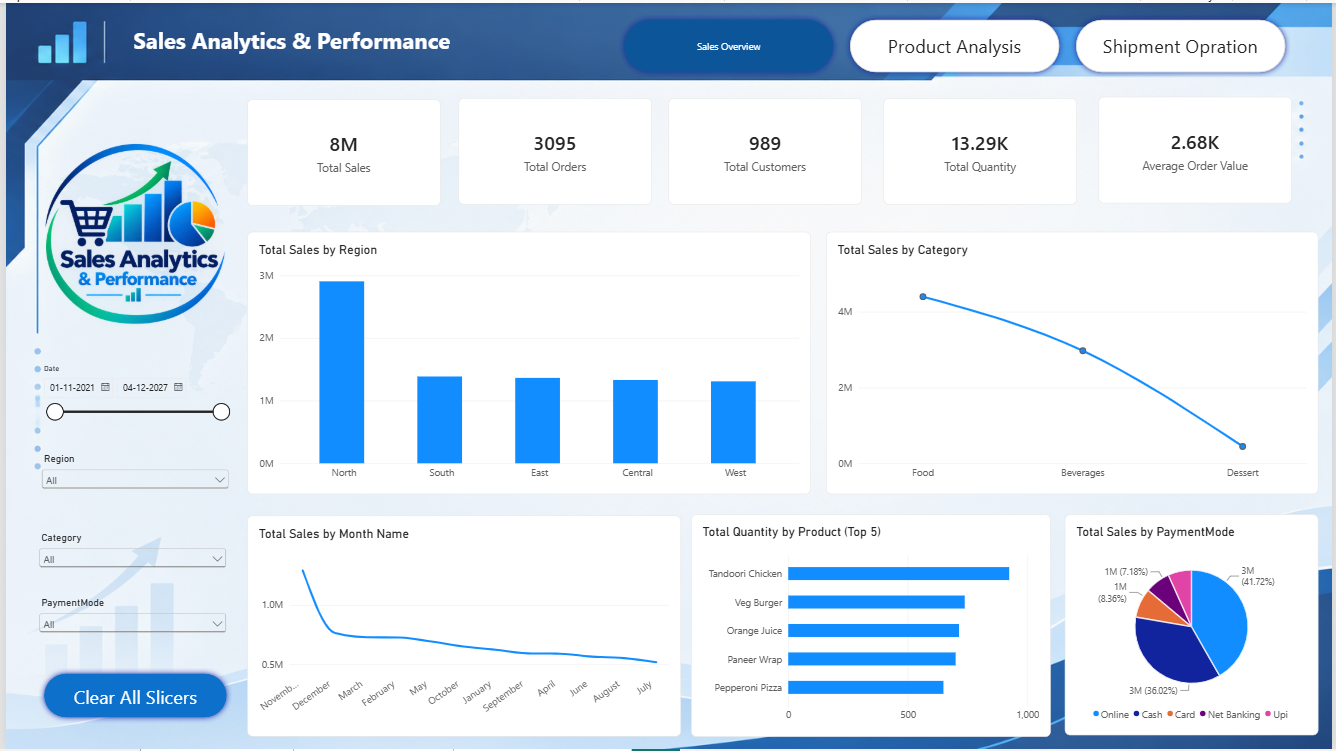

What the dashboard file says about the page in this screenshot:
{"tool":"powerbi","page":{"name":"Sales Overview","canvas":[1920,1080],"ordinal":0},"visuals":[{"type":"card","fields":{"Values":["Measure.Total Orders"]},"box":[654.5,137.9,279.9,154.4],"z":0},{"type":"slicer","fields":{"Values":["Dim_Date.Date"]},"box":[47.9,523,280.5,103.2],"z":0,"group":"g1"},{"type":"card","fields":{"Values":["Measure.Total Customers"]},"box":[959.2,137.9,279.9,154.4],"z":1000},{"type":"slicer","fields":{"Values":["Dim_Region.Region"]},"box":[47.7,652,280.5,103.2],"z":1000,"group":"g1"},{"type":"card","fields":{"Values":["Measure.Total Quantity"]},"box":[1270,137.9,279.9,154.4],"z":2000},{"type":"slicer","fields":{"Values":["Dim_Product.Category"]},"box":[43.9,764.9,280.5,103.2],"z":2000,"group":"g1"},{"type":"card","fields":{"Values":["Measure.Average Order Value"]},"box":[1580.8,135.8,279.9,154.4],"z":3000},{"type":"slicer","fields":{"Values":["Dim_Payment.PaymentMode"]},"box":[43.4,859,280.5,103.2],"z":3000,"group":"g1"},{"type":"columnChart","fields":{"Category":["Dim_Region.Region"],"Y":["Measure.Total Sales"]},"box":[349.3,331.2,816.2,380],"z":4000},{"type":"lineChart","fields":{"Category":["Dim_Date.Month Name"],"Y":["Measure.Total Sales"]},"box":[349.3,742,628,320.3],"z":5000},{"type":"card","fields":{"Values":["Measure.Total Sales"]},"box":[349.9,140,279.9,154.4],"z":6000},{"type":"clusteredBarChart","title":"Total Quantity by Product (Top 5)","fields":{"Category":["Dim_Product.Product"],"Y":["Measure.Total Quantity"]},"box":[991.7,740.2,521.2,322.1],"z":7000},{"type":"pieChart","fields":{"Category":["Dim_Payment.PaymentMode"],"Y":["Measure.Total Sales"]},"box":[1532.8,740.2,367.4,320.3],"z":8000},{"type":"textbox","box":[184.6,32.6,499.5,59.7],"z":9000},{"type":"pageNavigator","box":[886.7,16.3,975.6,92.6],"z":10000},{"type":"lineChart","fields":{"Category":["Dim_Product.Category"],"Y":["Measure.Total Sales"]},"box":[1187.1,331.2,713,380],"z":11000},{"type":"group","id":"g1","title":"Group 1","box":[43.4,523,284.1,439.7],"z":12000},{"type":"image","box":[47.1,195.4,280,272],"z":13000},{"type":"actionButton","box":[47.1,962.7,280.5,79.6],"z":13001}]}

Visuals, with their boxes in screenshot pixels (x1, y1, x2, y2), scaled from the page's 1920x1080 canvas onto the 1336x751 screenshot:
card - Measure.Total Orders: region(455, 96, 650, 203)
slicer - Dim_Date.Date: region(33, 364, 229, 435)
card - Measure.Total Customers: region(667, 96, 862, 203)
slicer - Dim_Region.Region: region(33, 453, 228, 525)
card - Measure.Total Quantity: region(884, 96, 1078, 203)
slicer - Dim_Product.Category: region(31, 532, 226, 604)
card - Measure.Average Order Value: region(1100, 94, 1295, 202)
slicer - Dim_Payment.PaymentMode: region(30, 597, 225, 669)
columnChart - Dim_Region.Region x Measure.Total Sales: region(243, 230, 811, 495)
lineChart - Dim_Date.Month Name x Measure.Total Sales: region(243, 516, 680, 739)
card - Measure.Total Sales: region(243, 97, 438, 205)
"Total Quantity by Product (Top 5)" clusteredBarChart: region(690, 515, 1053, 739)
pieChart - Dim_Payment.PaymentMode x Measure.Total Sales: region(1067, 515, 1322, 737)
textbox: region(128, 23, 476, 64)
pageNavigator: region(617, 11, 1296, 76)
lineChart - Dim_Product.Category x Measure.Total Sales: region(826, 230, 1322, 495)
"Group 1" group: region(30, 364, 228, 669)
image: region(33, 136, 228, 325)
actionButton: region(33, 669, 228, 725)
